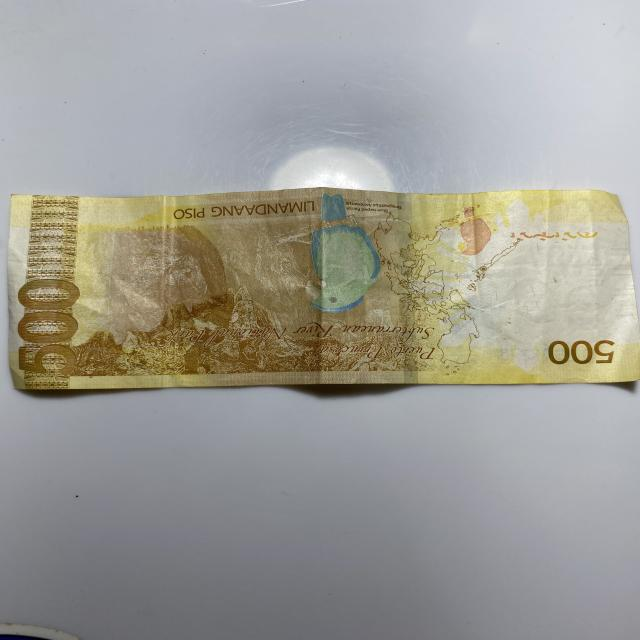500_big_parrot: (300, 190, 381, 312)
500_parrot_watermark: (450, 204, 495, 255)
value_watermark: (585, 255, 607, 287)
